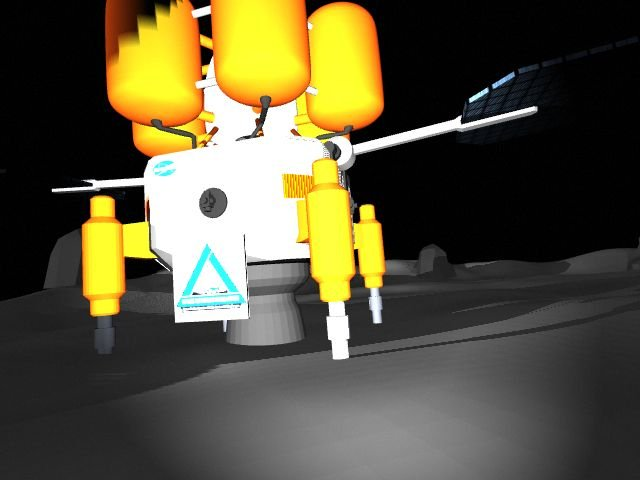basemarker: (175, 244, 248, 313)
